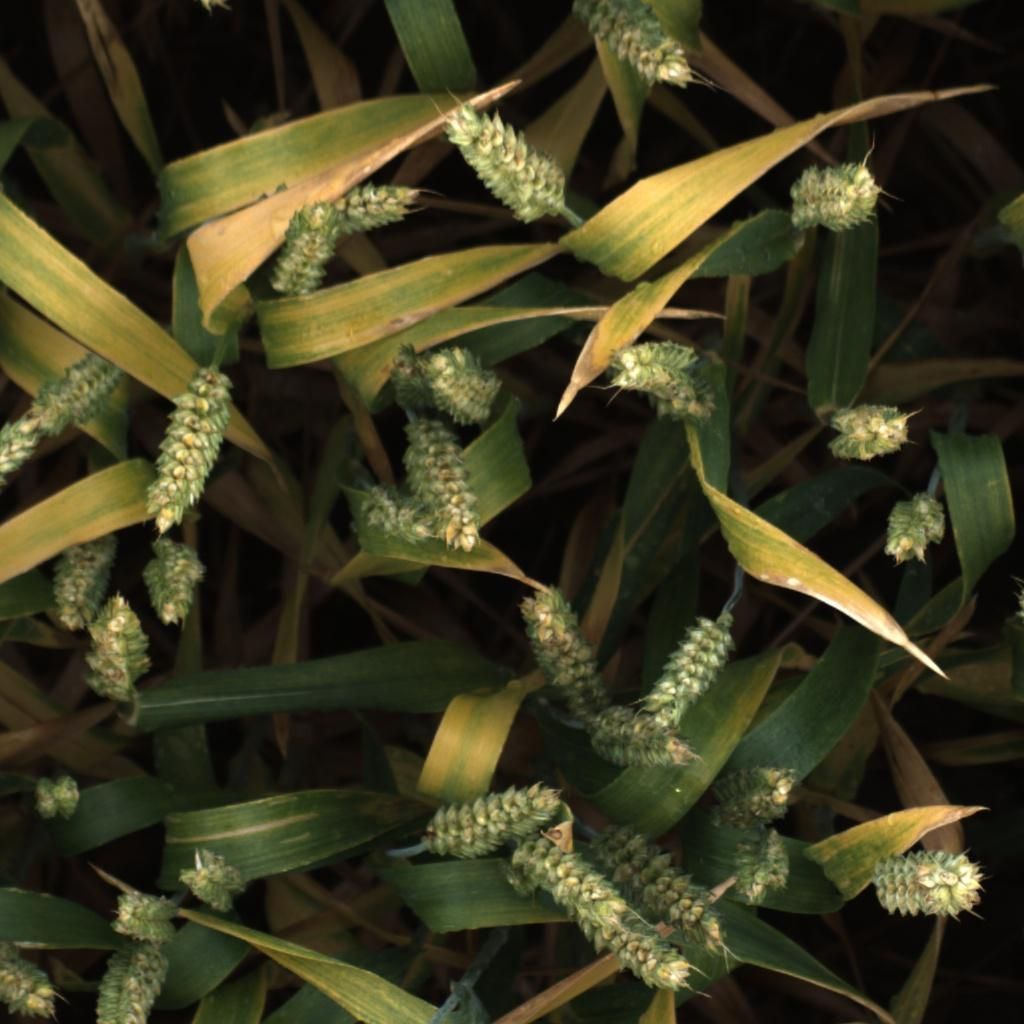0-0: (141, 358, 243, 536), (614, 821, 733, 941), (445, 107, 565, 221), (567, 0, 703, 92), (518, 584, 606, 723), (642, 610, 739, 728), (598, 337, 719, 426), (399, 421, 482, 550), (423, 775, 555, 853), (500, 852, 619, 937), (22, 352, 122, 438), (873, 849, 982, 919), (82, 594, 153, 697), (583, 934, 699, 997), (52, 524, 119, 632), (420, 341, 505, 426), (269, 201, 338, 303), (789, 158, 880, 234), (591, 704, 696, 768), (139, 541, 212, 628), (91, 944, 169, 1024), (822, 401, 913, 465), (877, 486, 948, 567), (329, 176, 422, 237), (713, 762, 798, 825), (730, 824, 793, 909), (356, 482, 438, 546), (104, 884, 185, 942), (178, 847, 249, 912), (0, 414, 51, 501), (0, 946, 56, 1020), (382, 342, 437, 417), (26, 770, 84, 825)
